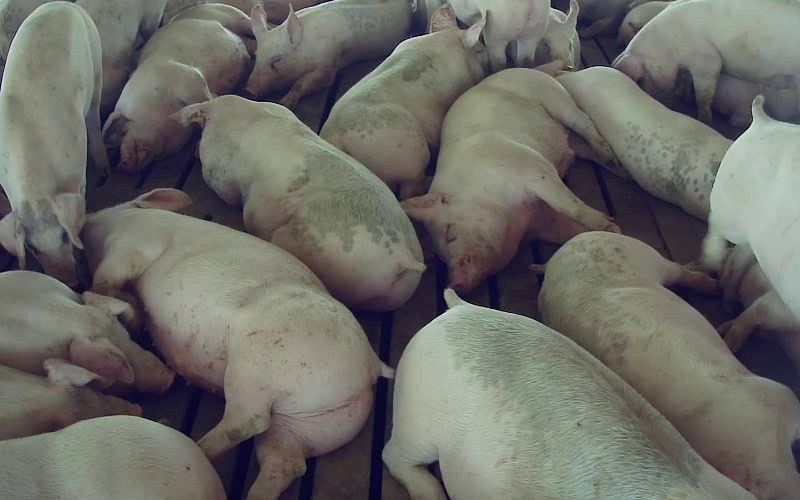pig: (384, 289, 750, 499), (539, 232, 799, 499), (175, 95, 424, 310), (402, 69, 619, 291), (321, 5, 485, 199), (0, 2, 106, 285), (558, 67, 731, 219), (103, 4, 254, 172), (612, 0, 799, 123), (0, 415, 225, 499)
